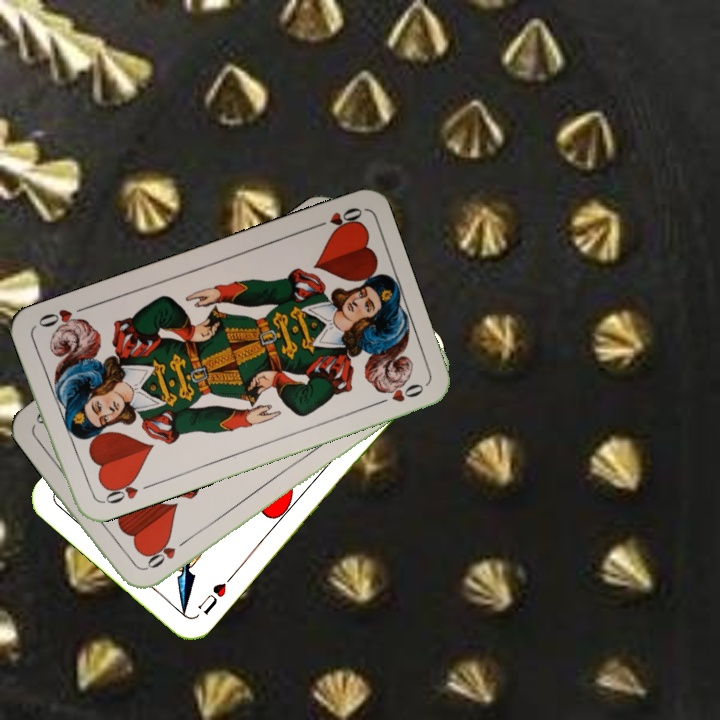HO: (139, 534, 192, 574), (96, 472, 154, 507), (307, 203, 365, 235)
HU: (194, 579, 229, 617)
